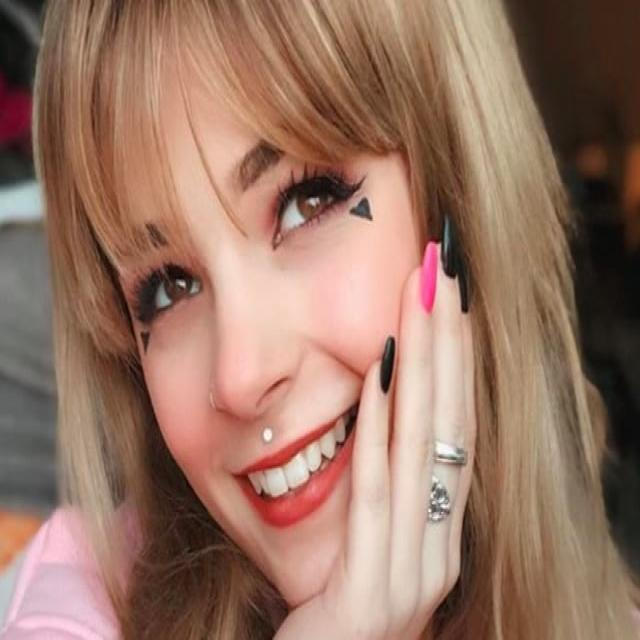human: (27, 0, 602, 640)
